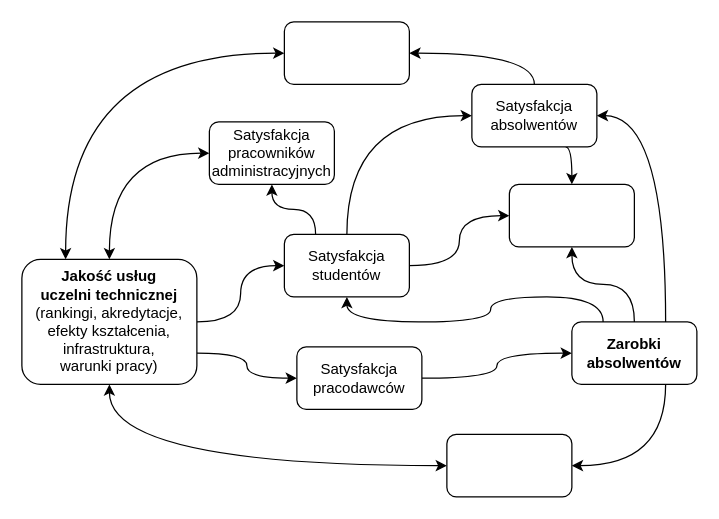
The diagram is 719 pixels wide and 519 high, and some of its shapes have lost their labels. The shapes that lost their labels are listed below. From the top down, each one's centre as x and y in pixels, then its label:
[346,52]: Satysfakcja pracowników akademickich
[571,215]: Satysfakcja rodziców
[509,465]: Satysfakcja władz centralnych i regionalnych
